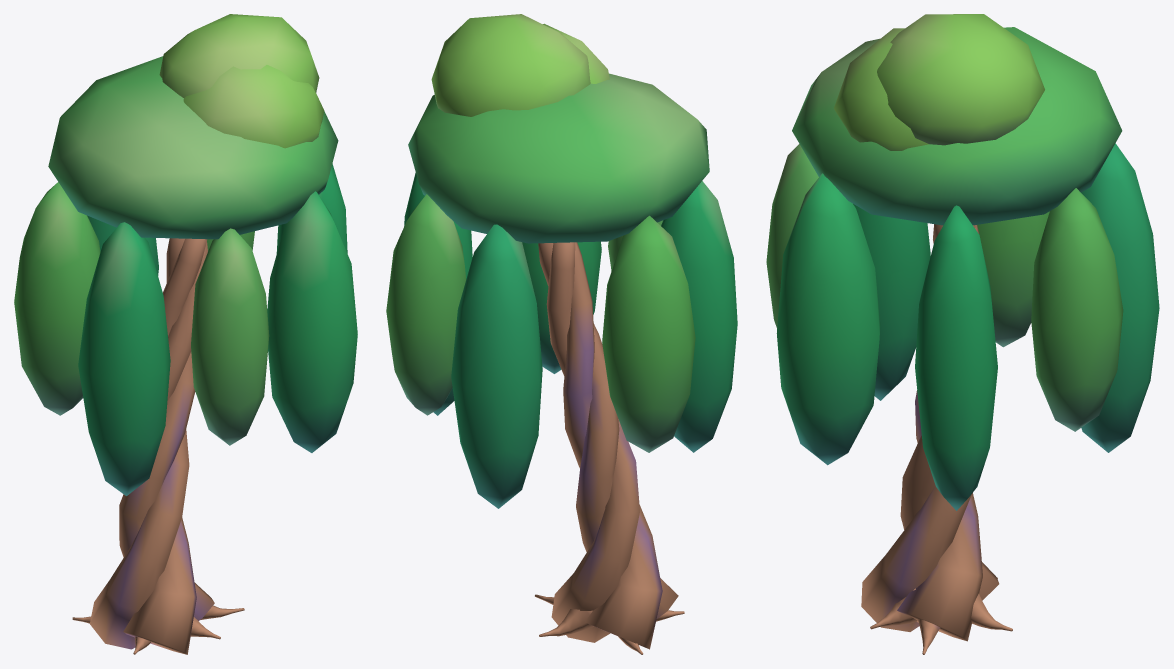
The model's file is verdant_tree_spiralwillow_a.glb.
The picture shows the model from 3 angles, left to right: view 1: azimuth 30°, elevation 25°; view 2: azimuth 150°, elevation 25°; view 3: azimuth 270°, elevation 25°; orthographic projection. The views are drawn at different scales.
Visible parts, largest first — view 1: verdant_tree_spiralwillow_a; view 2: verdant_tree_spiralwillow_a; view 3: verdant_tree_spiralwillow_a.
Boxes of the visible parts, x1,y1,x2,y2 form: verdant_tree_spiralwillow_a: [14, 14, 357, 654]; verdant_tree_spiralwillow_a: [386, 14, 737, 654]; verdant_tree_spiralwillow_a: [766, 14, 1159, 654].
Bounding box in the file's own units: 6.12 × 11.61 × 6.21.
